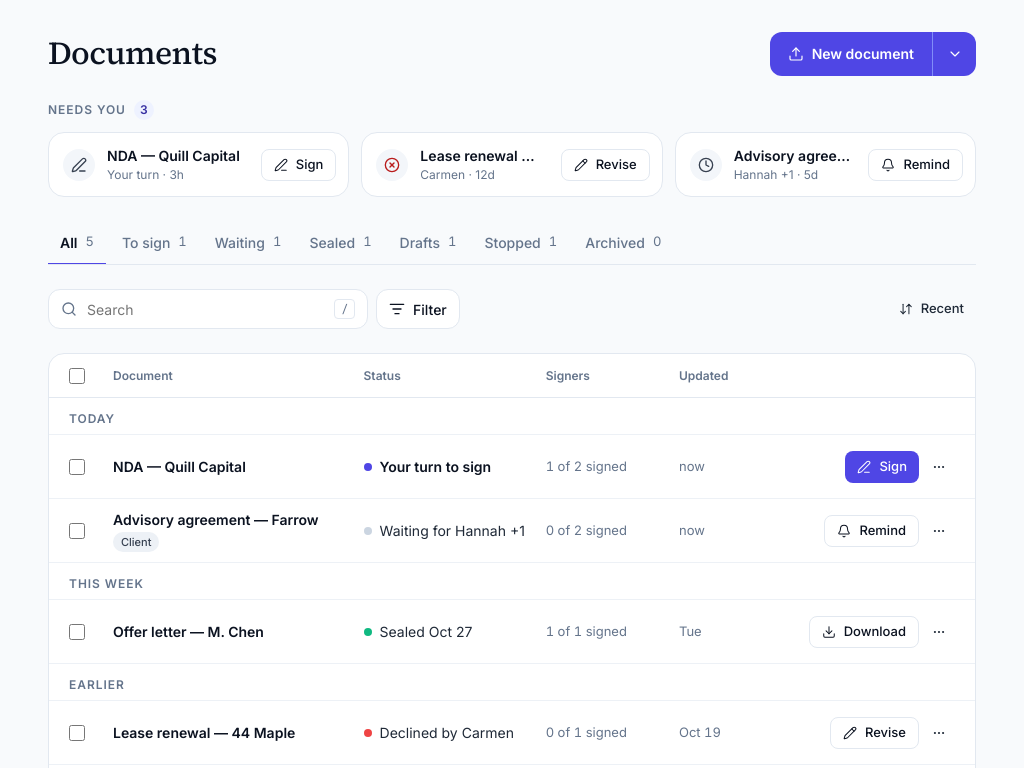
DashboardPage › searches, shows a removable chip, and the No matches state
Expected: the checkbox named "Select Advisory agreement — Farrow" is shown, [69,522,85,538]
Type "lease" into the search field named "Search documents". click: (206, 309)
box: [85,298,326,320]
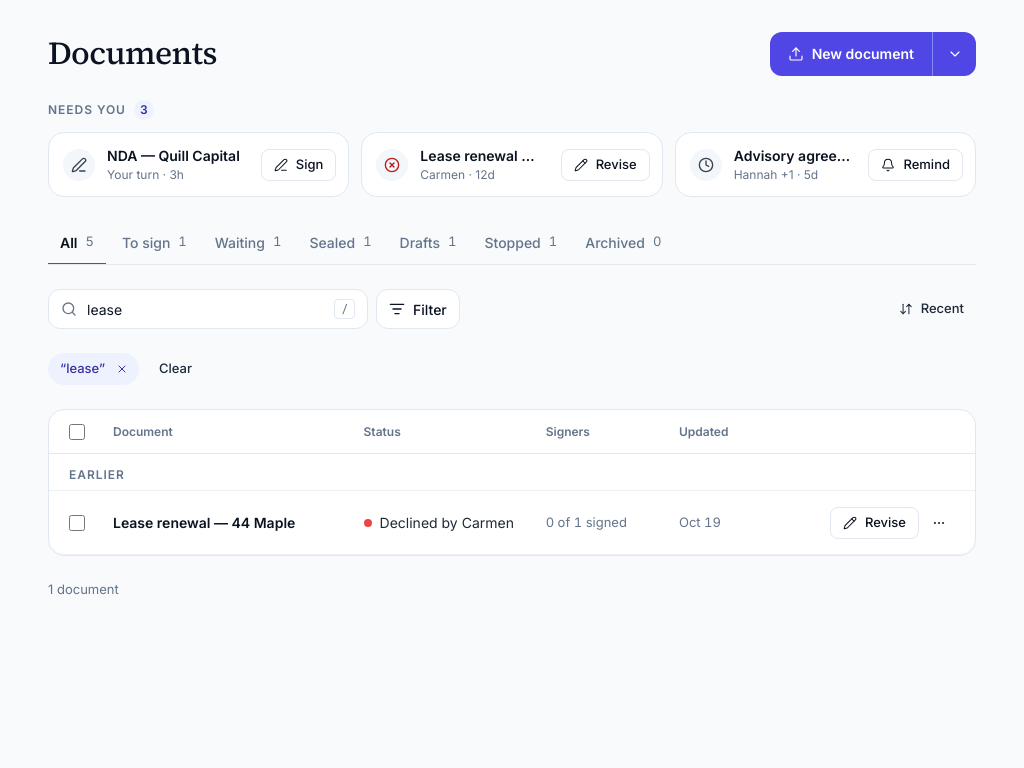
Expected: the checkbox named "Select Lease renewal — 44 Maple" is shown, [69,514,85,530]
Now the button named "Remove “lease”" is shown, box [111,358,133,380]
Replace the text in the search field named "Search documents" with "zebra". click: (206, 309)
box: [85,298,326,320]
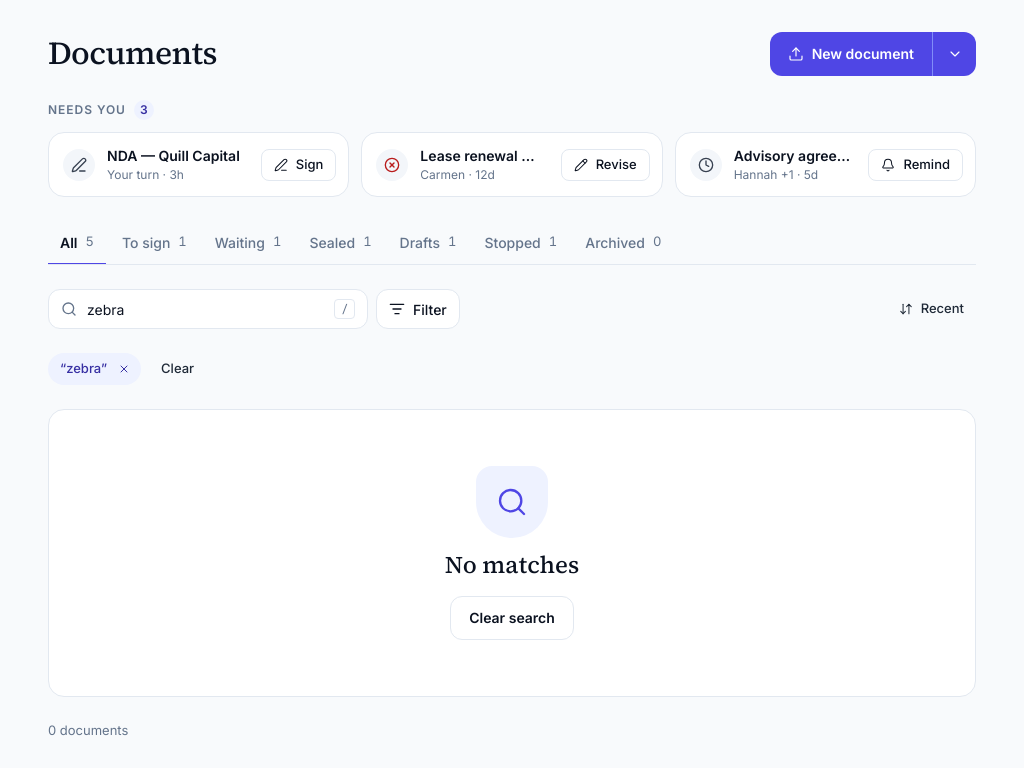
Now the heading "No matches" is shown, box [445,550,579,580]
Click the button "Clear search". click: click(512, 618)
box: [450,596,574,640]
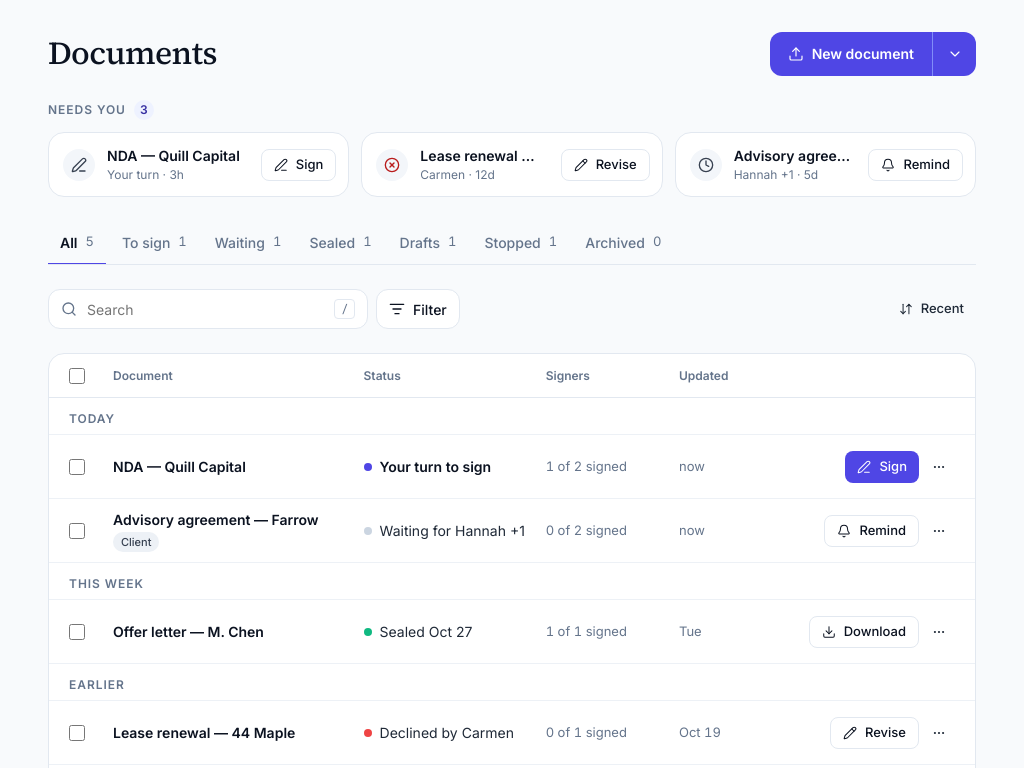
Now the checkbox named "Select Advisory agreement — Farrow" is shown, box [69,522,85,538]
